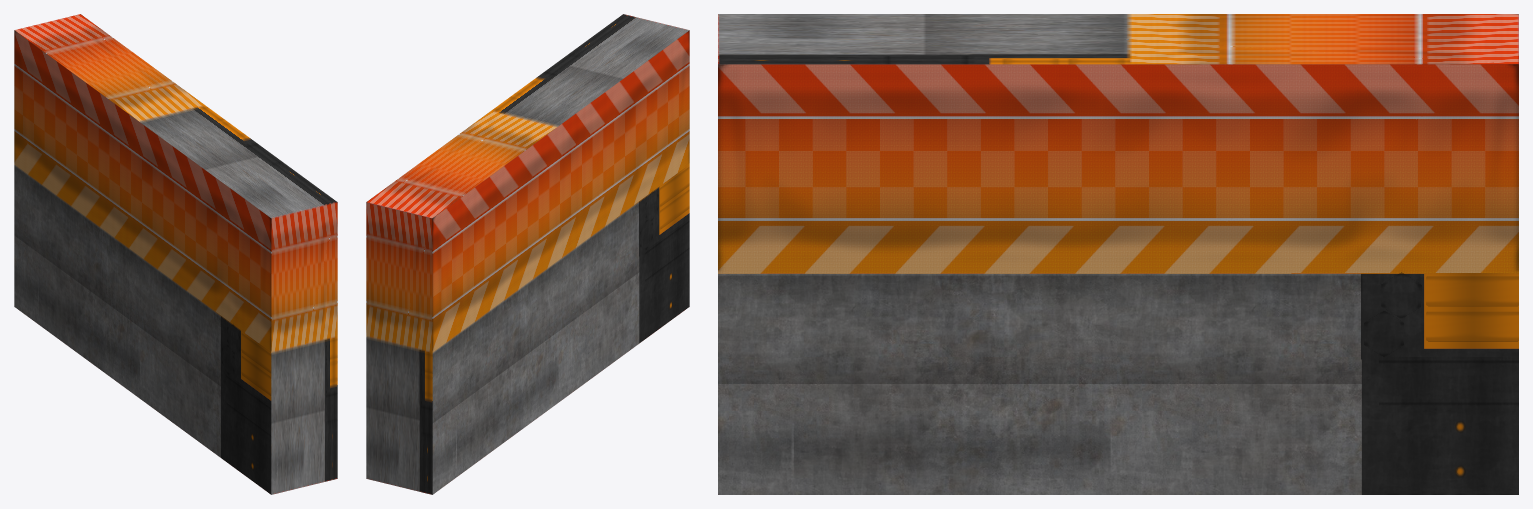
The model's file is gate_checkpoint.DAE.
3 views of the same model, side by side, from view 1: azimuth 30°, elevation 25°; view 2: azimuth 150°, elevation 25°; view 3: azimuth 270°, elevation 25° (orthographic). The views are drawn at different scales.
Parts seen in each view (by area): view 1: bounds; view 2: bounds; view 3: bounds.
Part boxes in pixels (box(x1,y1,x2,y2)): bounds: box(14, 14, 337, 494); bounds: box(366, 14, 689, 494); bounds: box(718, 14, 1518, 494).
Size of the model in its own units: 4.82 by 32.39 by 19.22.
